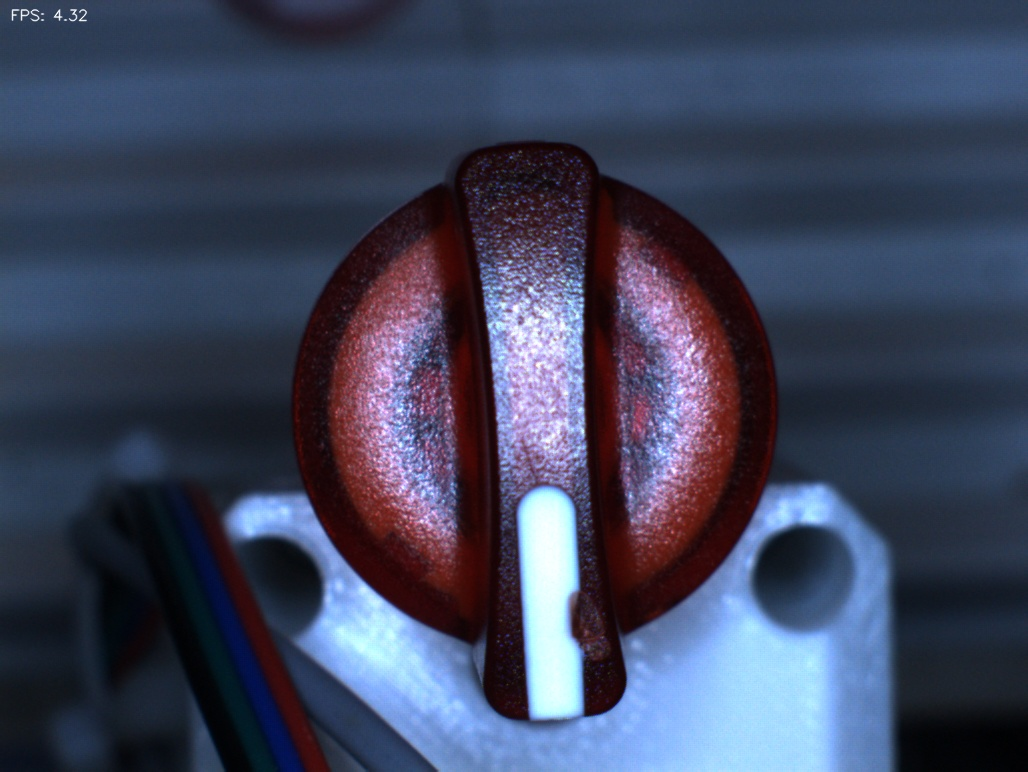Choc: (540, 579, 637, 676)
